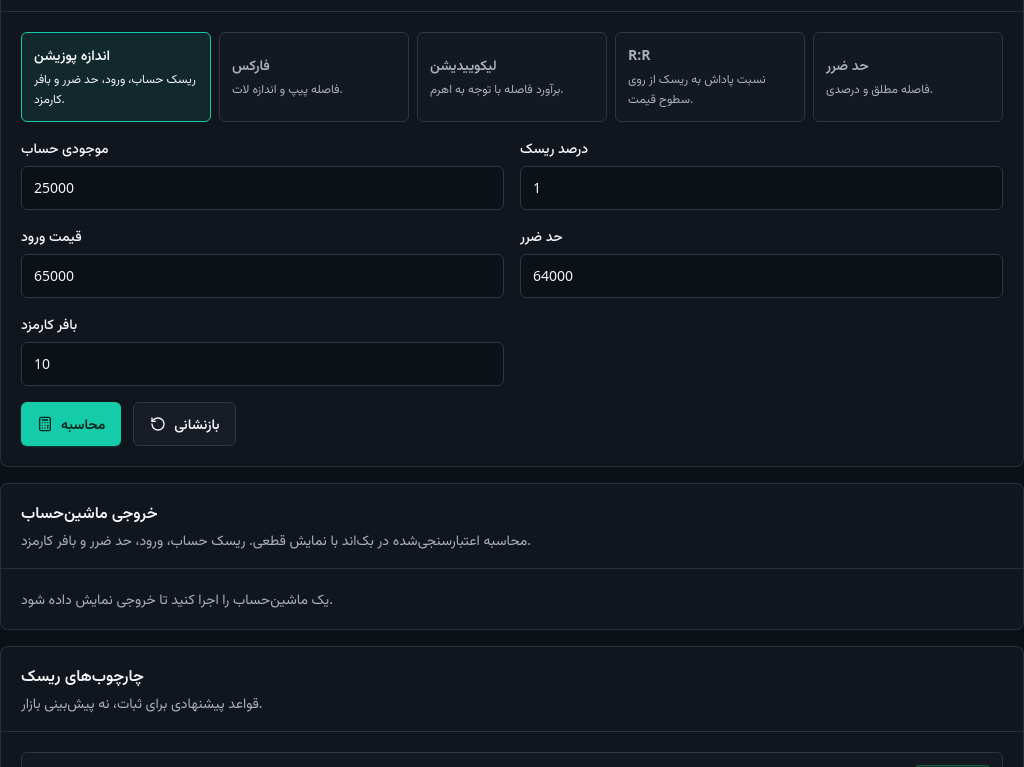
Test: RiskScreen in Persian › has no English in the calculator output, including the server's warning
The image size is (1024, 767).
(page scrolled)
Click the button "محاسبه" at x=71, y=424, box [21, 402, 121, 446]
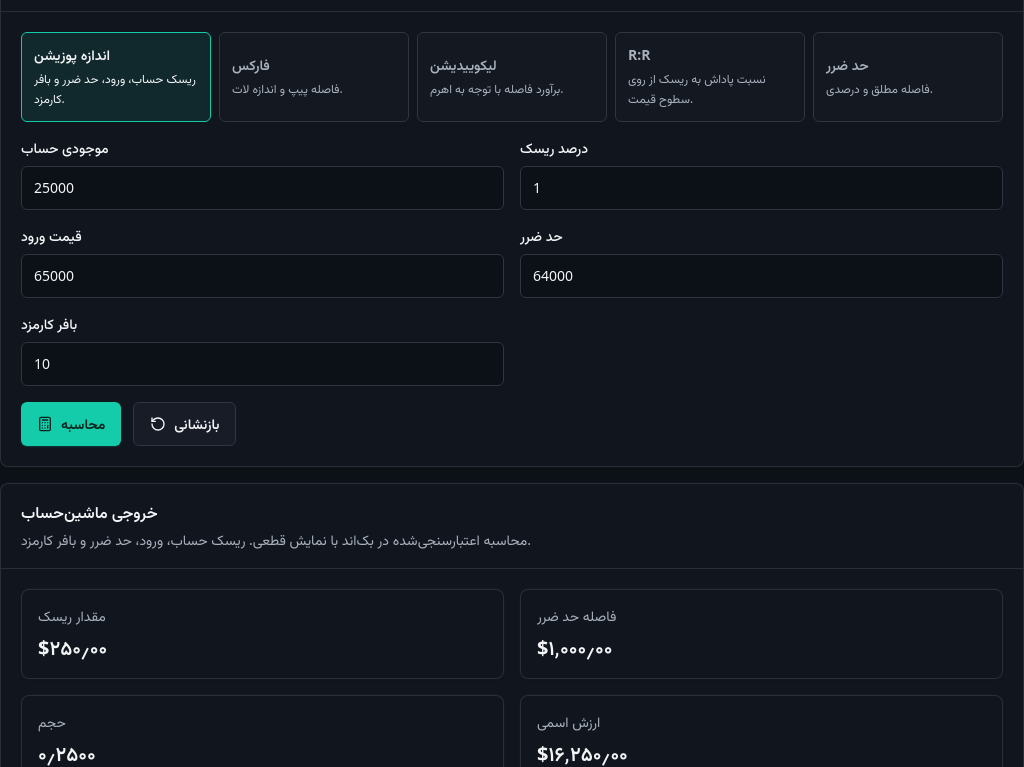
Now the text "مقدار ریسک" is shown, box [38, 606, 106, 625]
